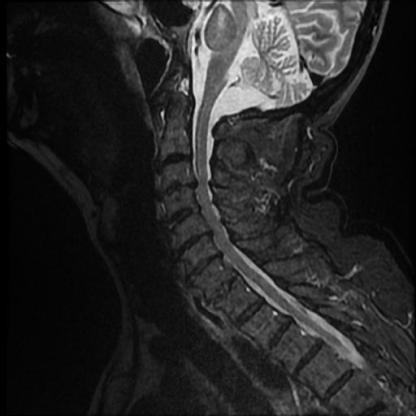Disc Bulgerotation: (169, 231, 218, 253), (179, 257, 225, 274), (154, 180, 196, 198), (163, 207, 201, 226), (158, 152, 192, 169)
Disc Protrusionrotation: (158, 152, 192, 169)
